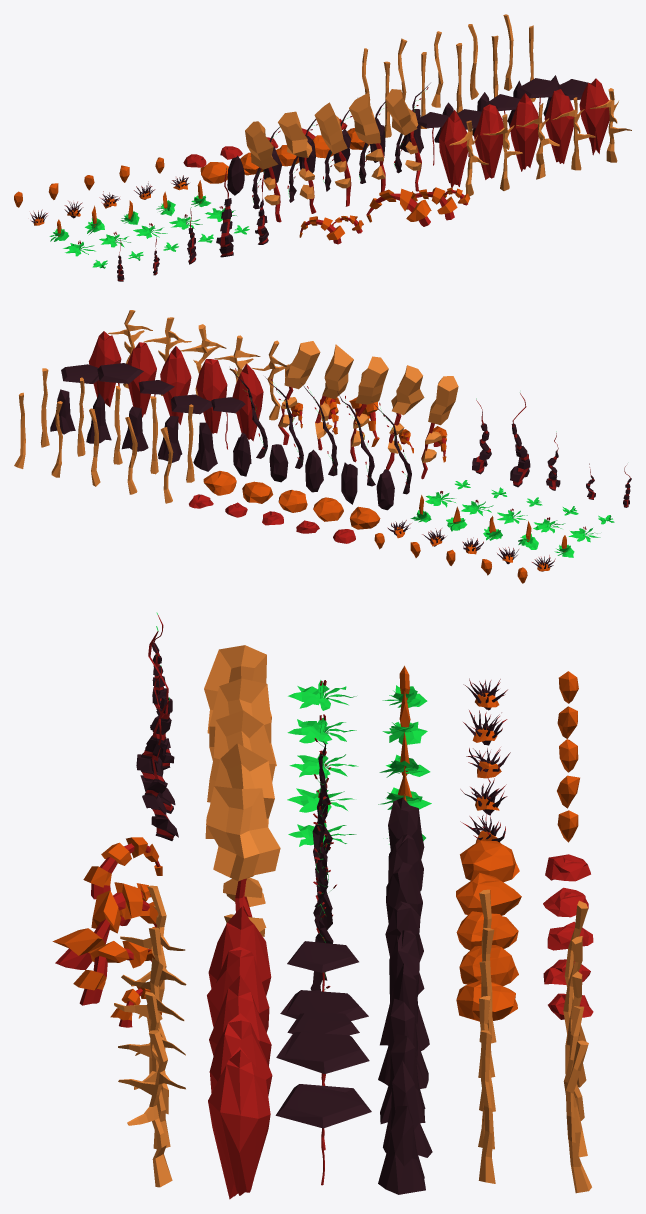
Rendered from PropOmgeving.FBX.
3 views of the same model, one above another, from view 1: azimuth 30°, elevation 25°; view 2: azimuth 150°, elevation 25°; view 3: azimuth 270°, elevation 25° (orthographic). The views are drawn at different scales.
Visible parts, largest first — view 1: Crystal007, Crystal006, Crystal008, Crystal010, Three002, Three005, Crystal009, Three004, Three001, Three003, Curve three003, Toxic plant004 (+17 smaller); view 2: Three003, Three001, Three002, Three004, Three005, Crystal006, Crystal007, Crystal008, Crystal009, Crystal010, Crystal001, Three007 (+41 smaller); view 3: Crystal010, Three001, Curve three003, Three006, Three002, Three007, Crystal005, Three003, Three004, Dead three005, Crystal006, Crystal007 (+38 smaller).
Part boxes in pixels (<box>): Crystal007: <box>473,104,503,179</box>; Crystal006: <box>439,110,468,187</box>; Crystal008: <box>509,93,538,171</box>; Crystal010: <box>579,78,609,155</box>; Three002: <box>349,92,385,192</box>; Three005: <box>245,121,281,222</box>; Crystal009: <box>544,89,573,163</box>; Three004: <box>278,111,316,213</box>; Three001: <box>385,89,421,191</box>; Three003: <box>314,102,351,206</box>; Curve three003: <box>366,188,431,226</box>; Toxic plant004: <box>216,168,233,257</box>; Three003: <box>350,356,388,462</box>; Three001: <box>278,341,320,444</box>; Three002: <box>315,344,353,450</box>; Three004: <box>386,365,424,470</box>; Three005: <box>421,376,458,479</box>; Crystal006: <box>232,363,263,441</box>; Crystal007: <box>196,359,227,433</box>; Crystal008: <box>160,346,191,424</box>; Crystal009: <box>127,342,156,417</box>; Crystal010: <box>88,331,121,406</box>; Crystal001: <box>193,422,217,471</box>; Three007: <box>97,363,143,386</box>; Crystal010: <box>208,1047,270,1199</box>; Three001: <box>206,786,280,931</box>; Curve three003: <box>52,882,162,969</box>; Three006: <box>275,1084,371,1185</box>; Three002: <box>205,743,274,936</box>; Three007: <box>276,1032,369,1150</box>; Crystal005: <box>378,1106,425,1194</box>; Three003: <box>207,710,275,906</box>; Three004: <box>209,678,276,766</box>; Dead three005: <box>118,1030,185,1187</box>; Crystal006: <box>208,907,271,995</box>; Crystal007: <box>207,947,269,1032</box>.
Bounding box in the file's own units: 1188 × 252 × 522.
